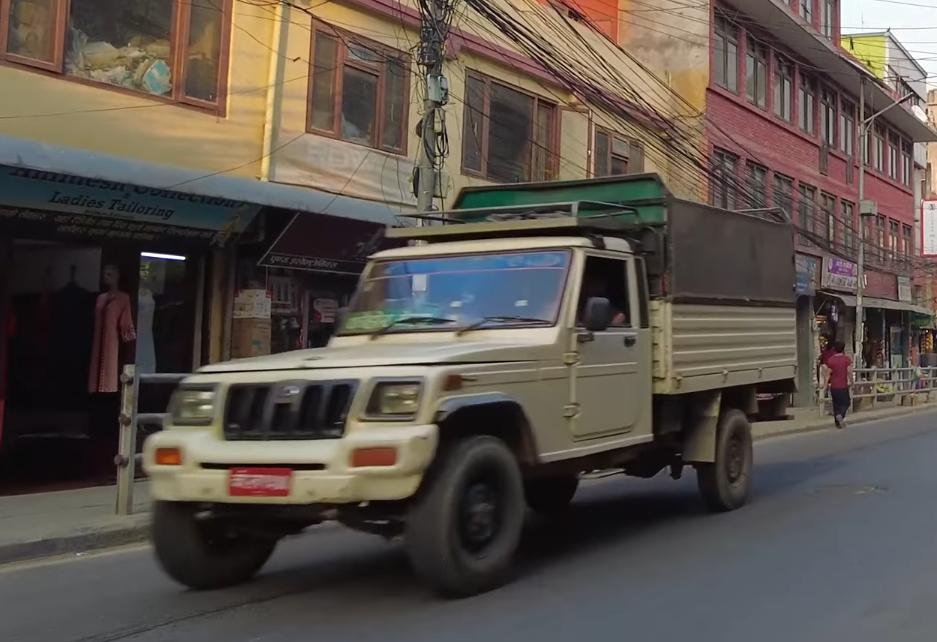transport_vehicle: (103, 145, 807, 606)
